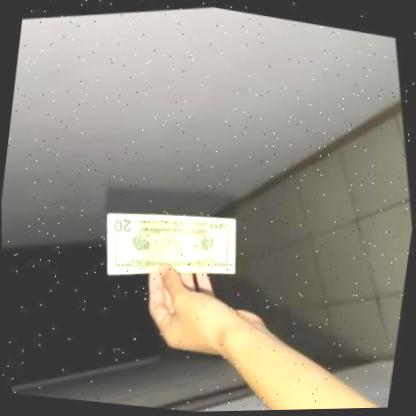dollar_back: (91, 176, 254, 303)
